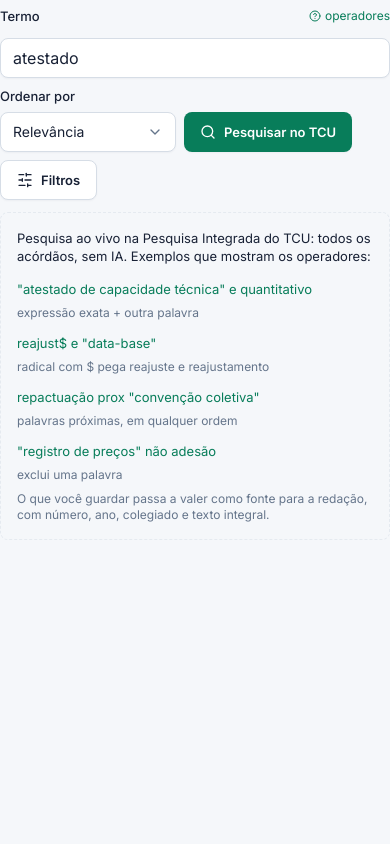
PesquisaTcu › "Ler aqui" busca o acórdão inteiro uma vez e mostra sumário e dispositivo
Later steps or results of the test are not shown.
Click the button "Pesquisar no TCU". click: point(268, 132)
box: [184,112,352,152]
(page scrolled)
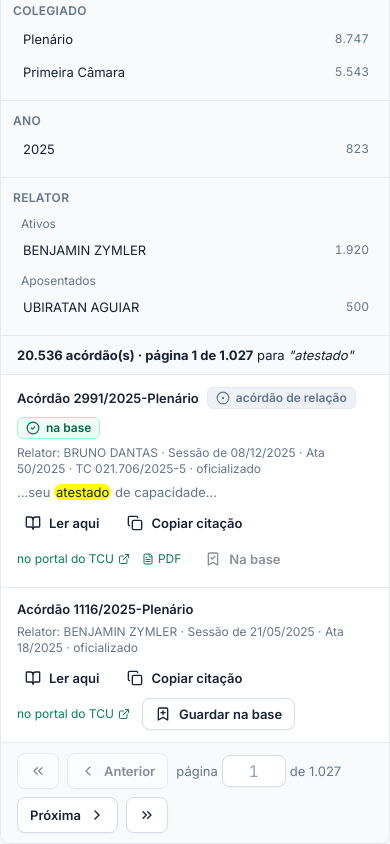
Check: the element with test id "resultado-tcu" is shown, box [1,336,389,843]
Click the button "Ler aqui" below "Acórdão 1116/2025-Plenário". click: point(62, 678)
box: [17,662,107,694]
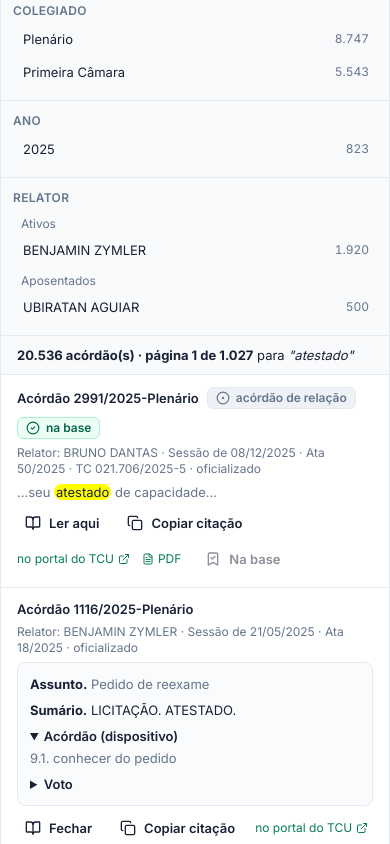
Check: the text "Sumário. LICITAÇÃO. ATESTADO." is shown, box [30,702,236,718]
Check: the text "9.1. conhecer do pedido" is shown, box [30,750,177,766]
